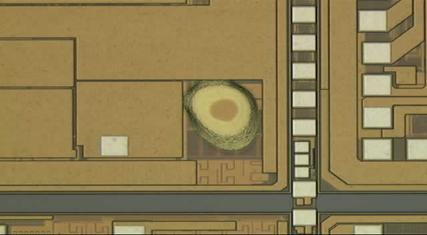BLOCK ETCH: (182, 72, 266, 156)
